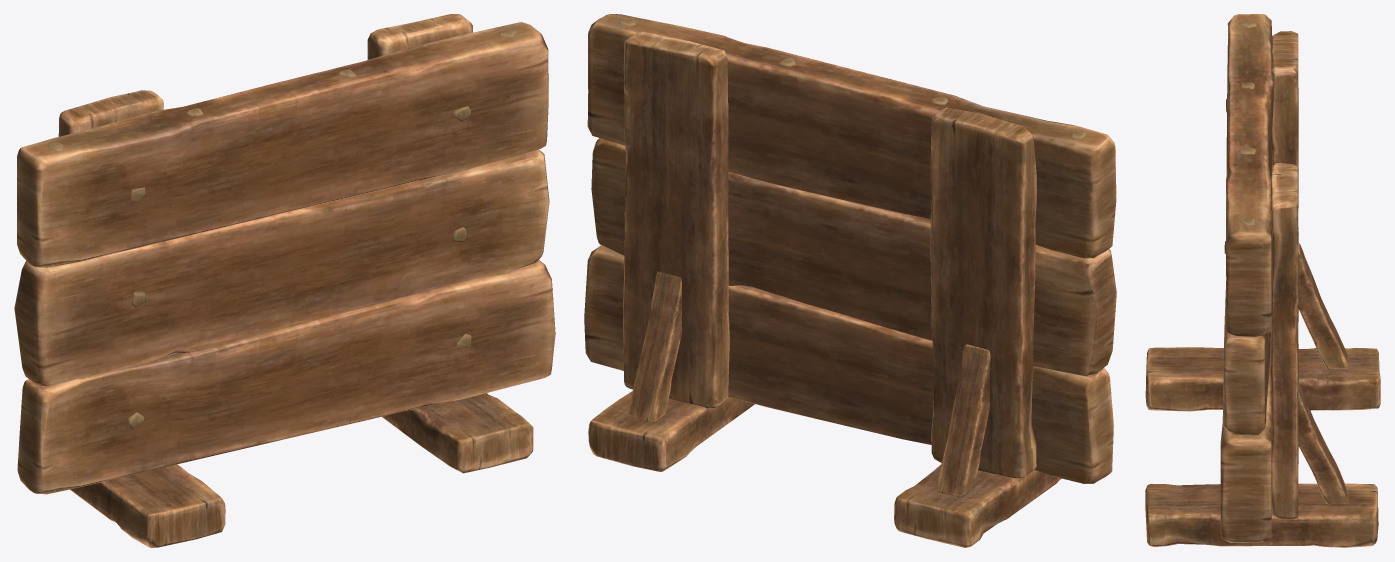
The picture shows the model from 3 angles, left to right: view 1: azimuth 30°, elevation 25°; view 2: azimuth 150°, elevation 25°; view 3: azimuth 270°, elevation 25°; orthographic projection. The views are drawn at different scales.
Parts seen in each view (by area): view 1: SM_TableToolRack_LOD0; view 2: SM_TableToolRack_LOD0; view 3: SM_TableToolRack_LOD0.
Boxes of the visible parts, x1,y1,x2,y2 form: SM_TableToolRack_LOD0: (14, 14, 555, 547); SM_TableToolRack_LOD0: (584, 14, 1116, 547); SM_TableToolRack_LOD0: (1145, 14, 1380, 547).
Size of the model in its own units: 0.6019 by 0.4308 by 0.2629.
1 material, 1 textured.
